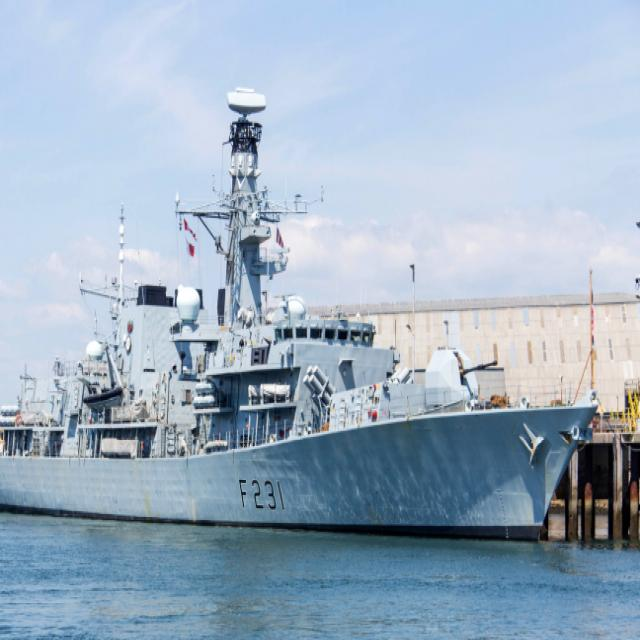Fragata: (1, 63, 607, 550)
